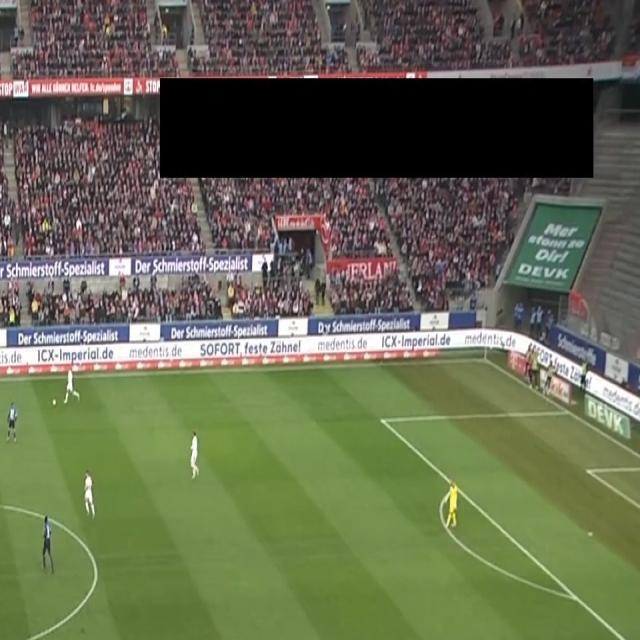ball: (51, 397, 58, 408)
